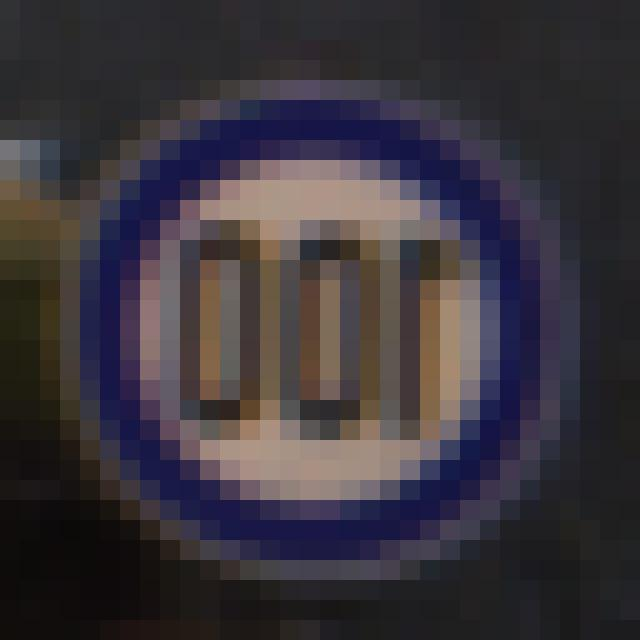SPEED LIMIT 100: (83, 81, 567, 574)
